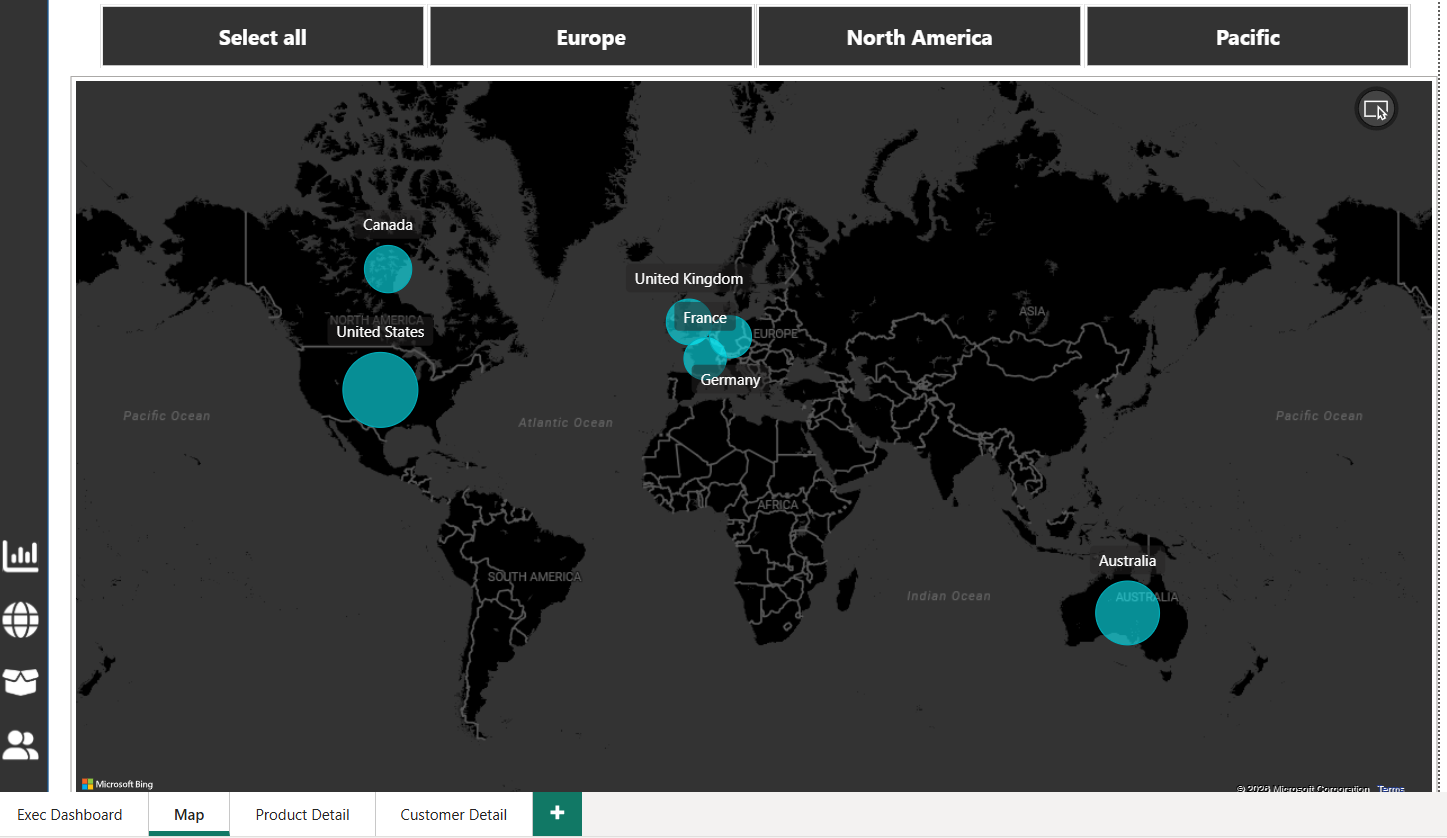

The dashboard page shown, as its layout file describes it:
{"tool":"powerbi","page":{"name":"Map","canvas":[1280,720],"ordinal":1},"visuals":[{"type":"shape","box":[0,0,45,720.2],"z":0},{"type":"map","fields":{"Category":["Territory Lookup.Country"],"Size":["Measure Table.Total orders"]},"box":[64.8,70.9,1215.5,649.3],"z":1000},{"type":"slicer","fields":{"Values":["Territory Lookup.Continent"]},"box":[64.8,0,1215.5,70.9],"z":2000},{"type":"actionButton","box":[0,478.1,45.2,40.4],"z":3000},{"type":"actionButton","box":[0,534,45.2,40.4],"z":4000},{"type":"actionButton","box":[0,589.8,45.2,40.4],"z":5000},{"type":"actionButton","box":[0,645.7,45.2,40.4],"z":6000}]}

Visuals, with their boxes in screenshot pixels (x1, y1, x2, y2):
shape: x1=0 y1=0 x2=50 y2=788
map - Territory Lookup.Country x Measure Table.Total orders: x1=72 y1=64 x2=1427 y2=788
slicer - Territory Lookup.Continent: x1=72 y1=0 x2=1427 y2=64
actionButton: x1=0 y1=518 x2=50 y2=563
actionButton: x1=0 y1=580 x2=50 y2=625
actionButton: x1=0 y1=642 x2=50 y2=688
actionButton: x1=0 y1=705 x2=50 y2=750
